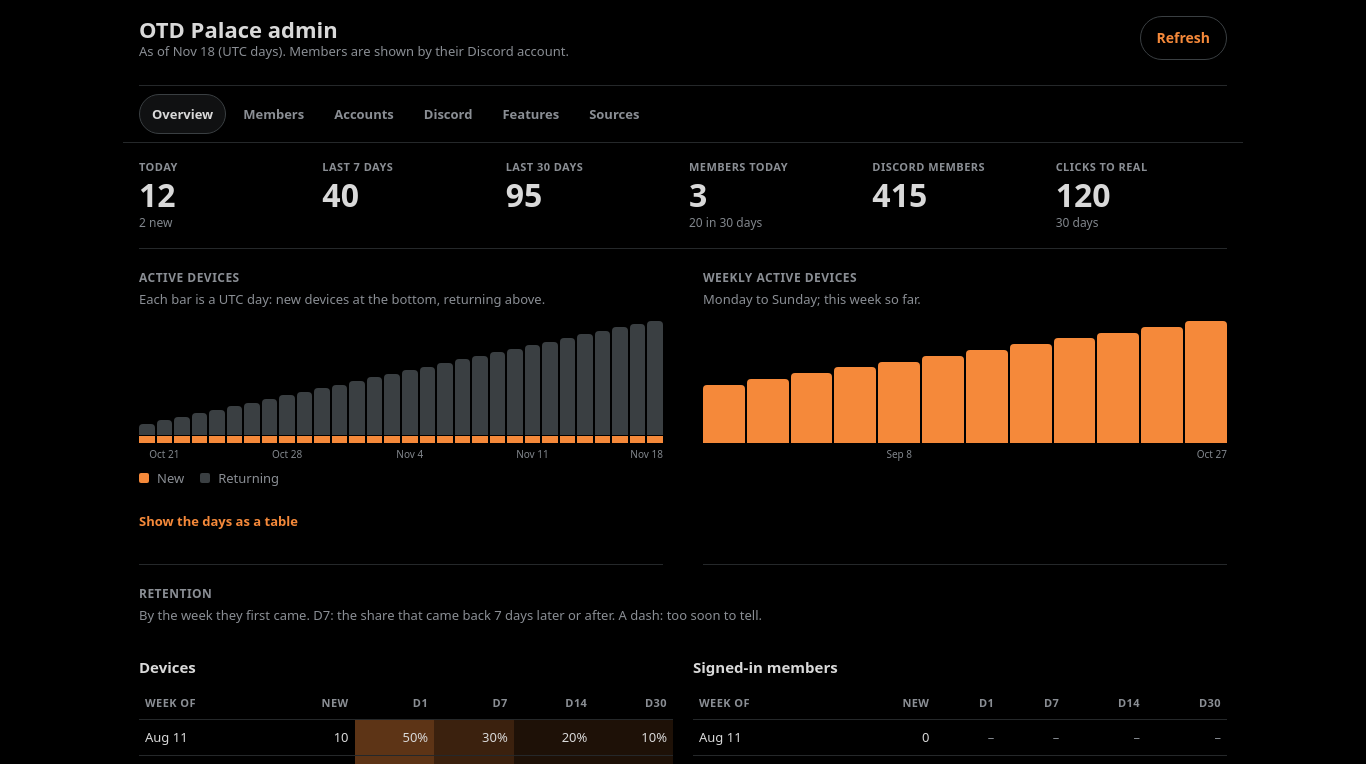
the admin panel's tabs › Members: a row opens that member's timeline, in words, and goes back
Click the tab "Members": (274, 114) [230,94,317,134]
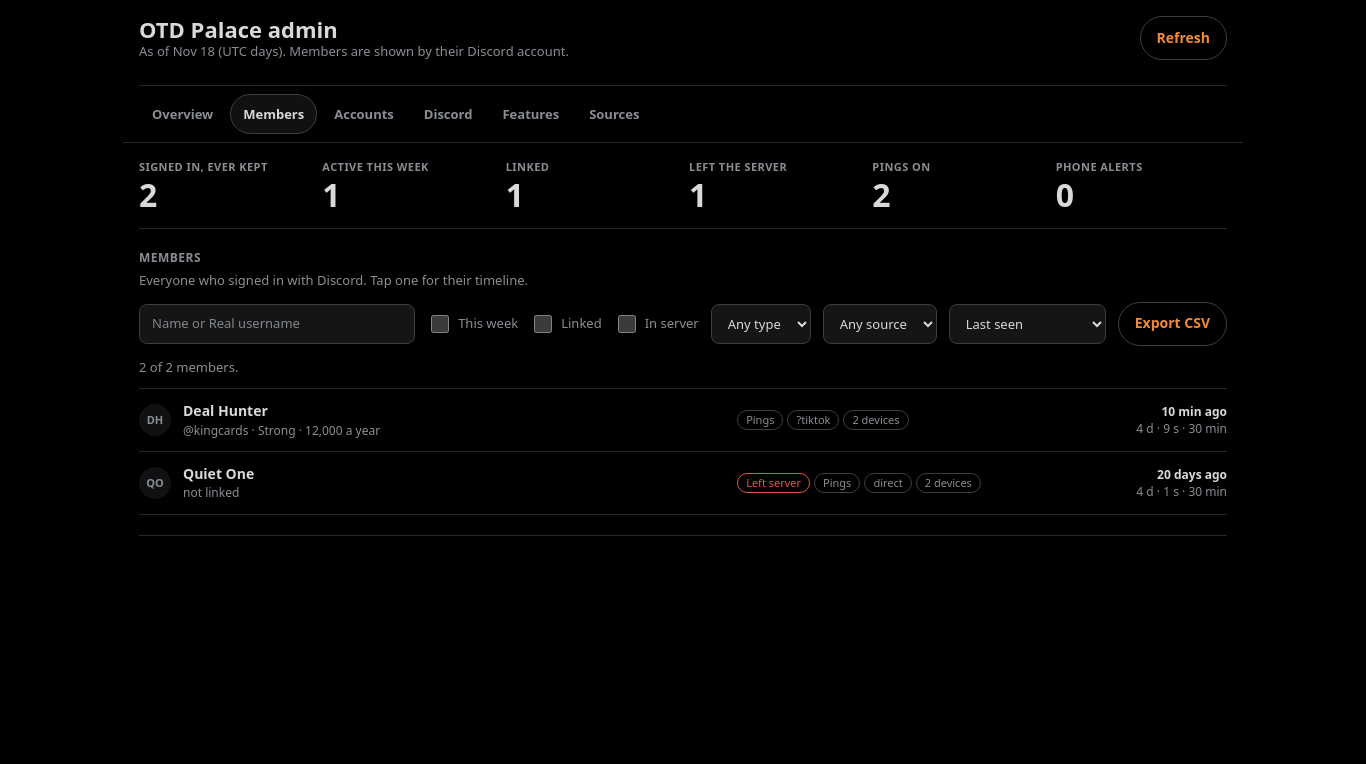
Click the button with aria-label "Deal Hunter: open the timeline": (155, 420) [139,389,1227,452]
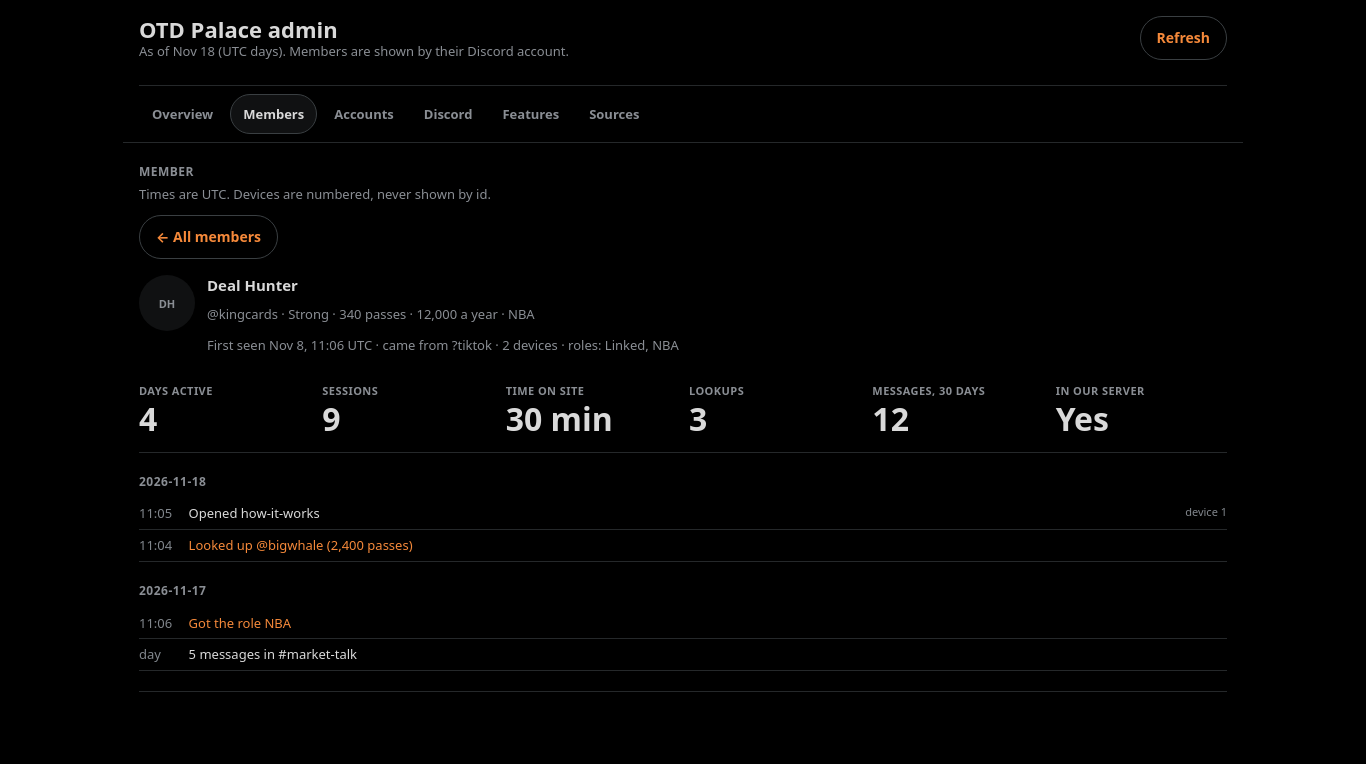
Check: the text "Looked up @bigwhale (2,400 passes)" is shown, box [189,536,413,554]
Check: the text "Opened how-it-works" is shown, box [189,504,320,522]
Check: the text "Got the role NBA" is shown, box [189,614,291,632]
Click the button "← All members": (209, 238) [139,216,278,260]
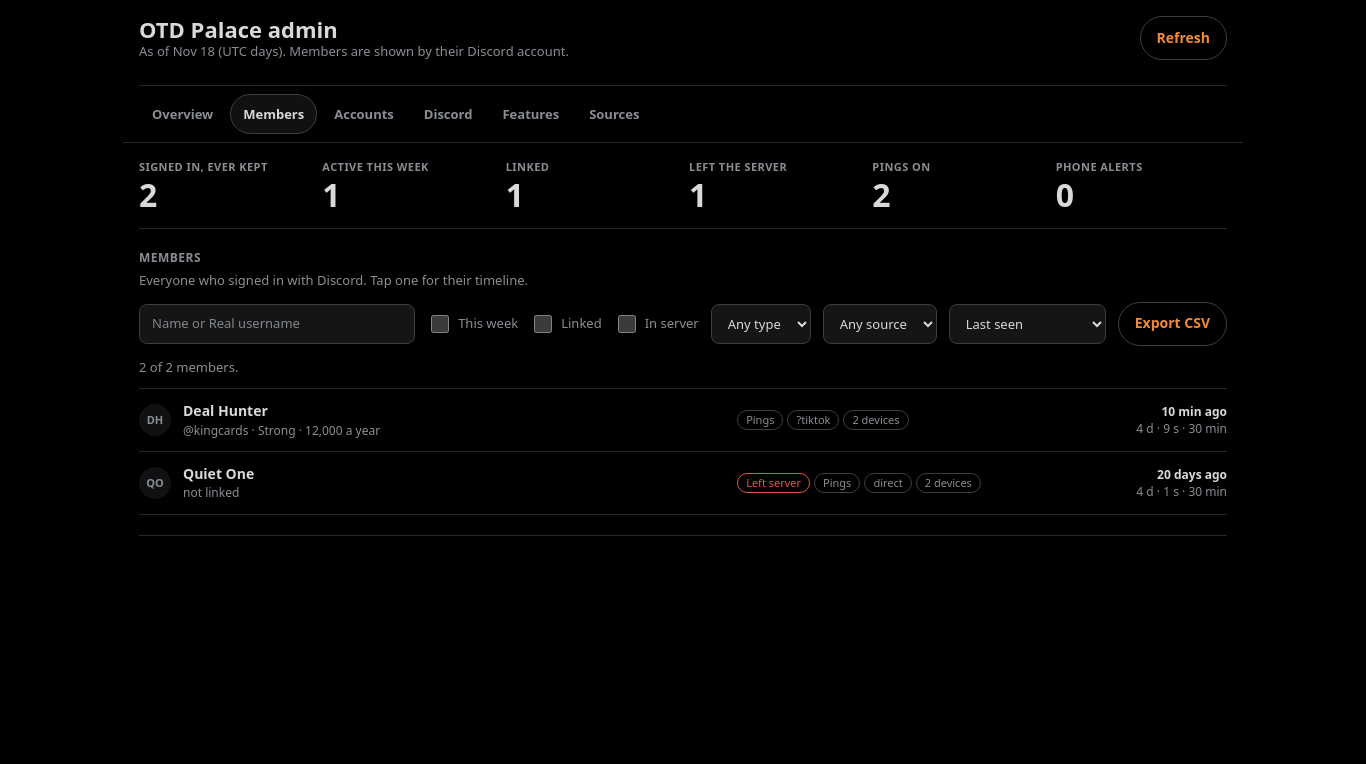
Check: the list named "Members" is shown, box [139,388,1227,515]
